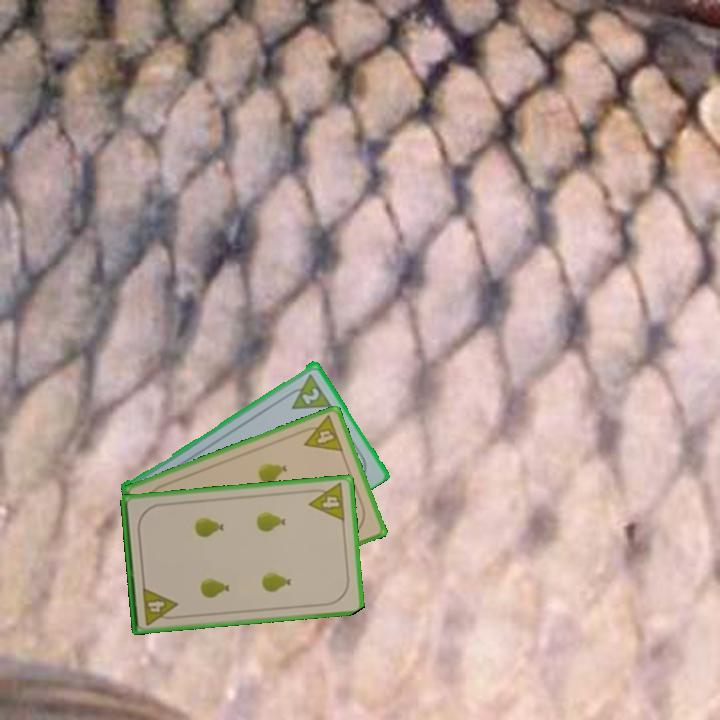2p: (281, 370, 334, 412)
4p: (296, 412, 346, 455), (305, 480, 348, 524), (139, 583, 181, 628)
